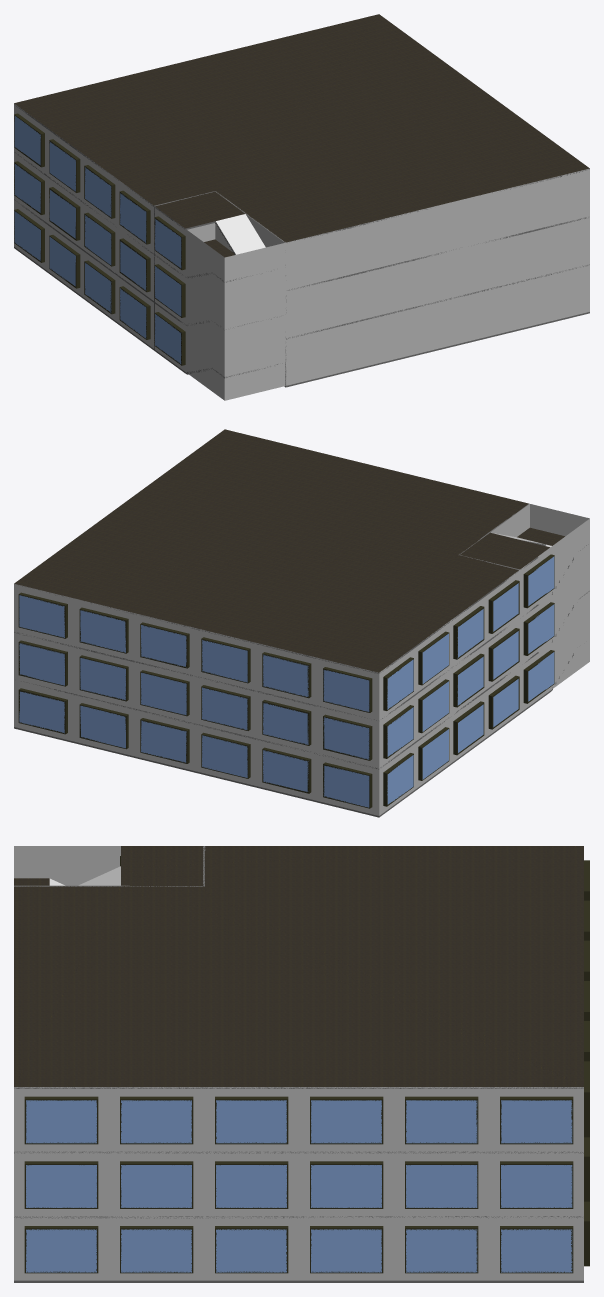
The model's file is Office Interior.fbx.
3 views of the same model, one above another, from view 1: azimuth 30°, elevation 25°; view 2: azimuth 150°, elevation 25°; view 3: azimuth 270°, elevation 25° (orthographic). The views are drawn at different scales.
Parts seen in each view (by area): view 1: the whole buidling, Floor, window frames, stair room, stairs colision; view 2: Floor, the whole buidling, window frames, stair room; view 3: Floor, the whole buidling, window frames.
Boxes of the visible parts, left/top/right/bottom form: the whole buidling: left=14, top=103, right=589, bottom=400; Floor: left=14, top=14, right=589, bottom=387; window frames: left=14, top=113, right=185, bottom=365; stair room: left=154, top=191, right=286, bottom=385; stairs colision: left=216, top=214, right=265, bottom=254; Floor: left=14, top=429, right=589, bottom=817; the whole buidling: left=14, top=504, right=589, bottom=815; window frames: left=18, top=554, right=554, bottom=808; stair room: left=459, top=503, right=529, bottom=569; Floor: left=14, top=846, right=583, bottom=1282; the whole buidling: left=14, top=846, right=583, bottom=1280; window frames: left=24, top=856, right=589, bottom=1273.
Bounding box in the file's own units: 24.5 × 9.1 × 24.25.
